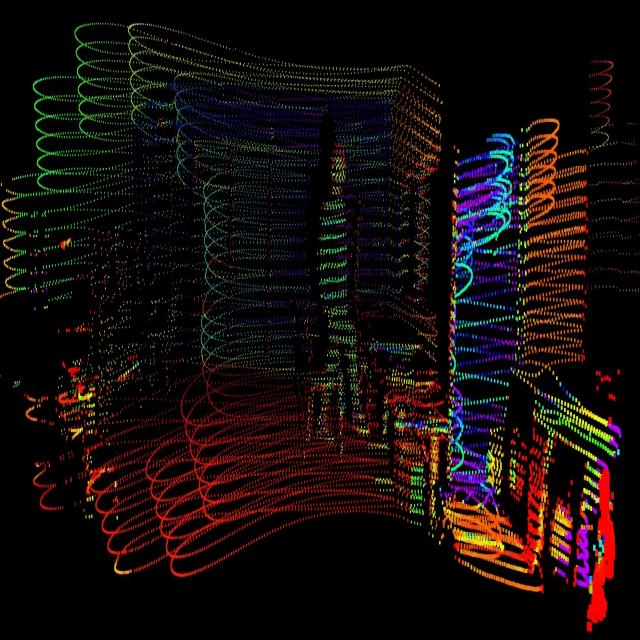human: (312, 137, 370, 444)
